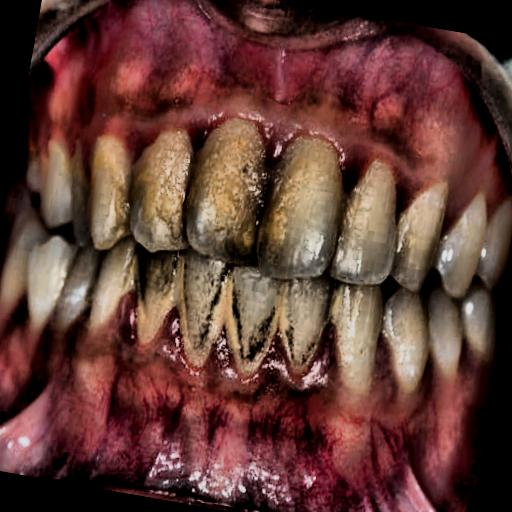Calculus: (0, 41, 493, 422)
